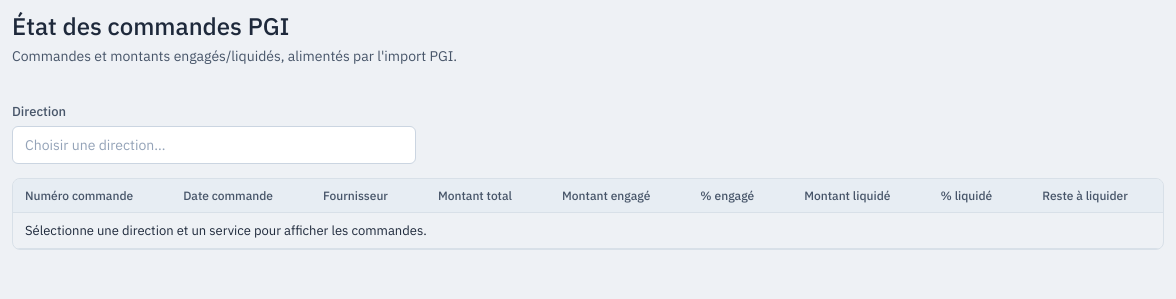
Test case: CommandesPGI › un service sans commande affiche le message dédié
This screenshot has width=1176, height=299.
Click the button with aria-label "Filtrer par direction": click(95, 145) [12, 126, 416, 164]
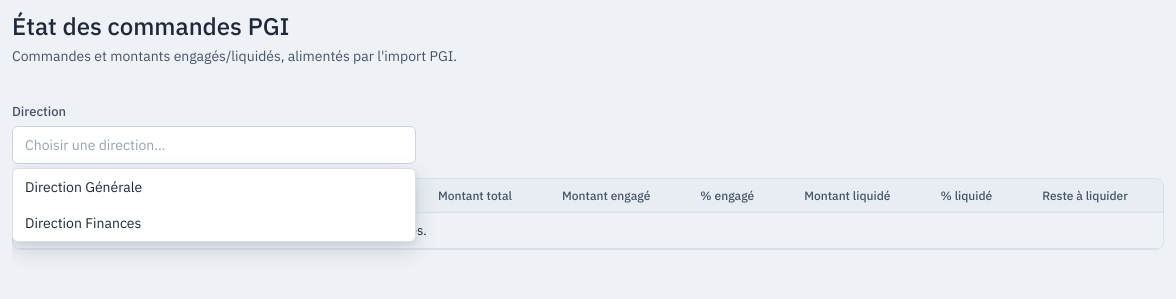
Click the text "Direction Générale": click(84, 187) [25, 178, 142, 196]
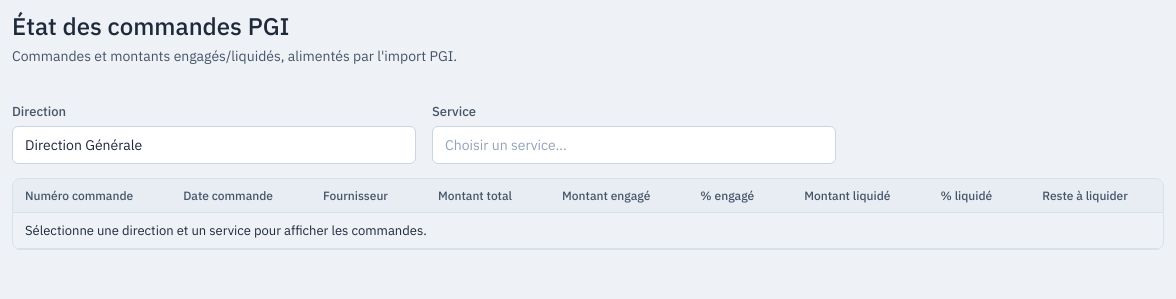
Click the button with aria-label "Filtrer par service": click(506, 145) [432, 126, 836, 164]
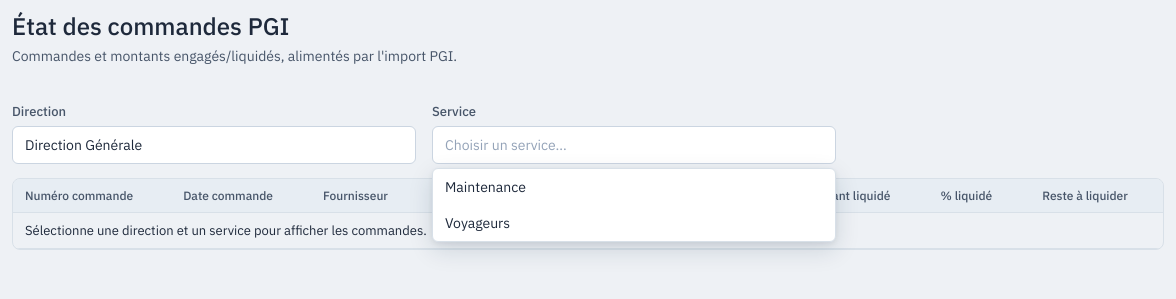
Click the text "Voyageurs": click(478, 223) [445, 214, 510, 232]
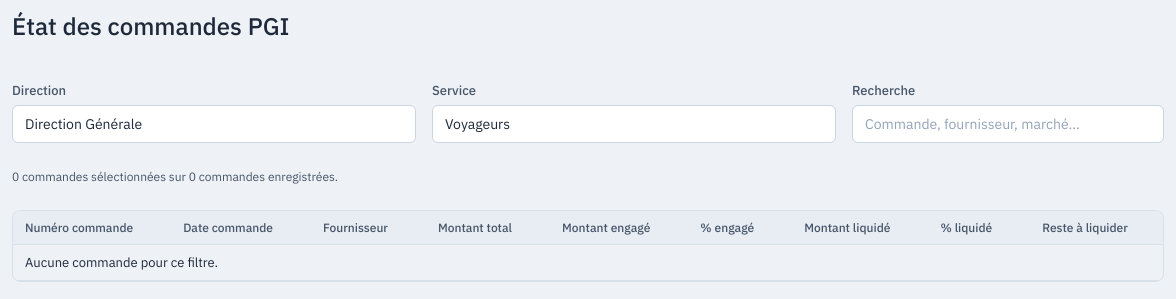
Expected: the text "Aucune commande pour ce filtre." is shown, [13, 245, 1164, 281]
